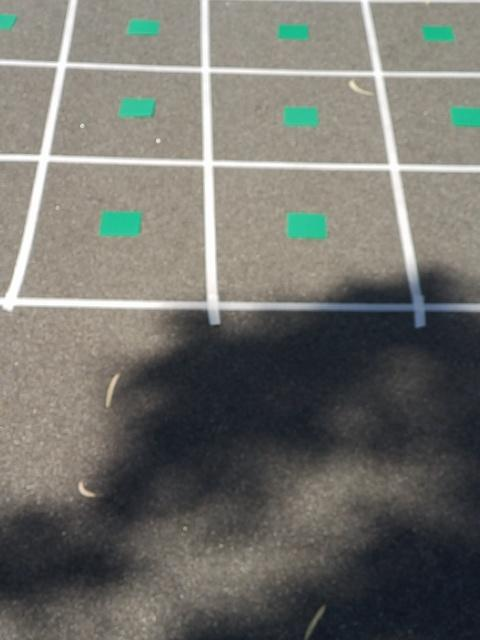weed: (97, 210, 142, 238), (286, 211, 328, 240), (116, 96, 157, 119), (282, 104, 319, 129), (420, 23, 457, 44), (448, 104, 480, 127), (124, 19, 161, 38), (276, 21, 310, 41), (0, 12, 19, 30)
